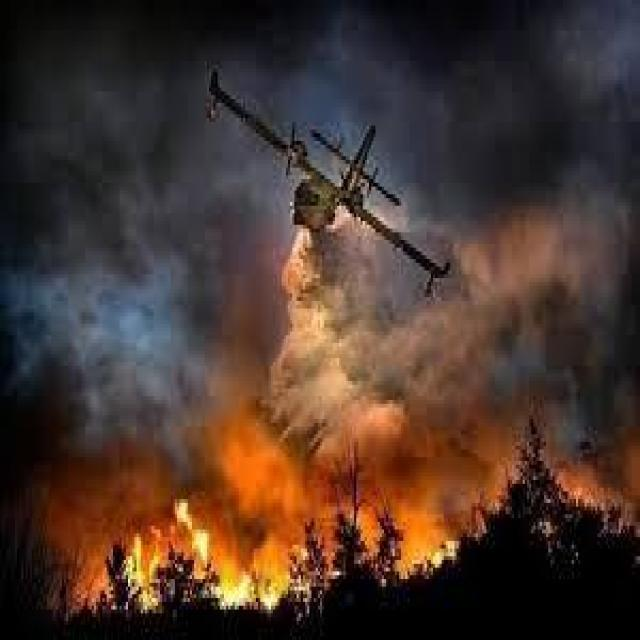Fire: (84, 483, 317, 628), (346, 446, 532, 614)
Smoke: (0, 0, 640, 467)
